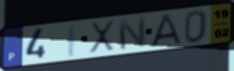0: (183, 9, 209, 45)
4: (23, 26, 51, 63)
A: (149, 12, 183, 48)
I: (66, 23, 78, 59)
N: (117, 16, 147, 52)
X: (88, 19, 116, 55)
